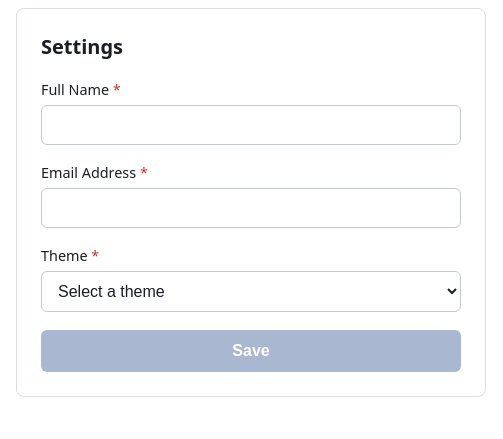
SettingsForm › shows a required error for Full Name when left blank and blurred
Click the field labelled "Full Name *".
click(251, 125)  # box 41,105 -> 461,145
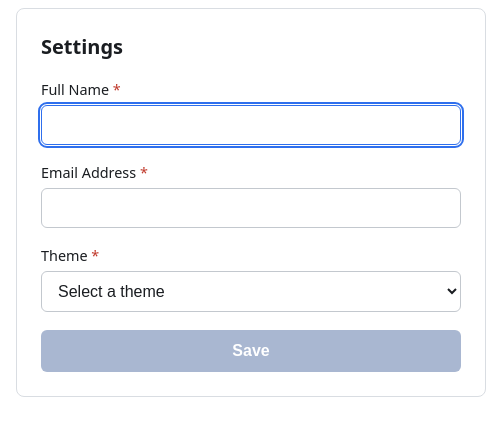
Press Tab
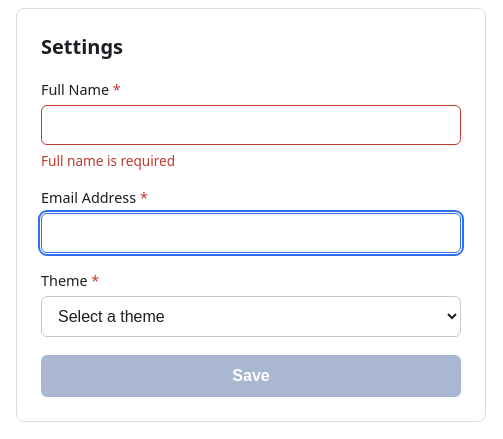
Now the text "Full name is required" is shown, box 41,151 -> 175,170
